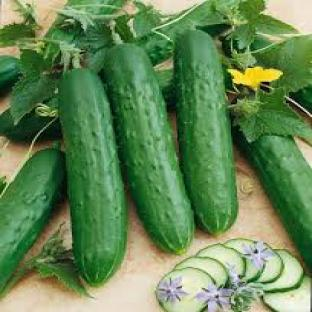Cucumber: (104, 45, 194, 254), (60, 70, 126, 285), (175, 31, 238, 233), (236, 133, 311, 269), (0, 149, 65, 291), (137, 2, 227, 64), (156, 268, 214, 311), (0, 109, 51, 142), (264, 251, 304, 293), (45, 14, 81, 60), (264, 276, 311, 311), (196, 245, 246, 276), (175, 257, 227, 286), (256, 248, 284, 284), (156, 70, 175, 110), (0, 56, 19, 95), (293, 86, 311, 113), (225, 240, 255, 256)
